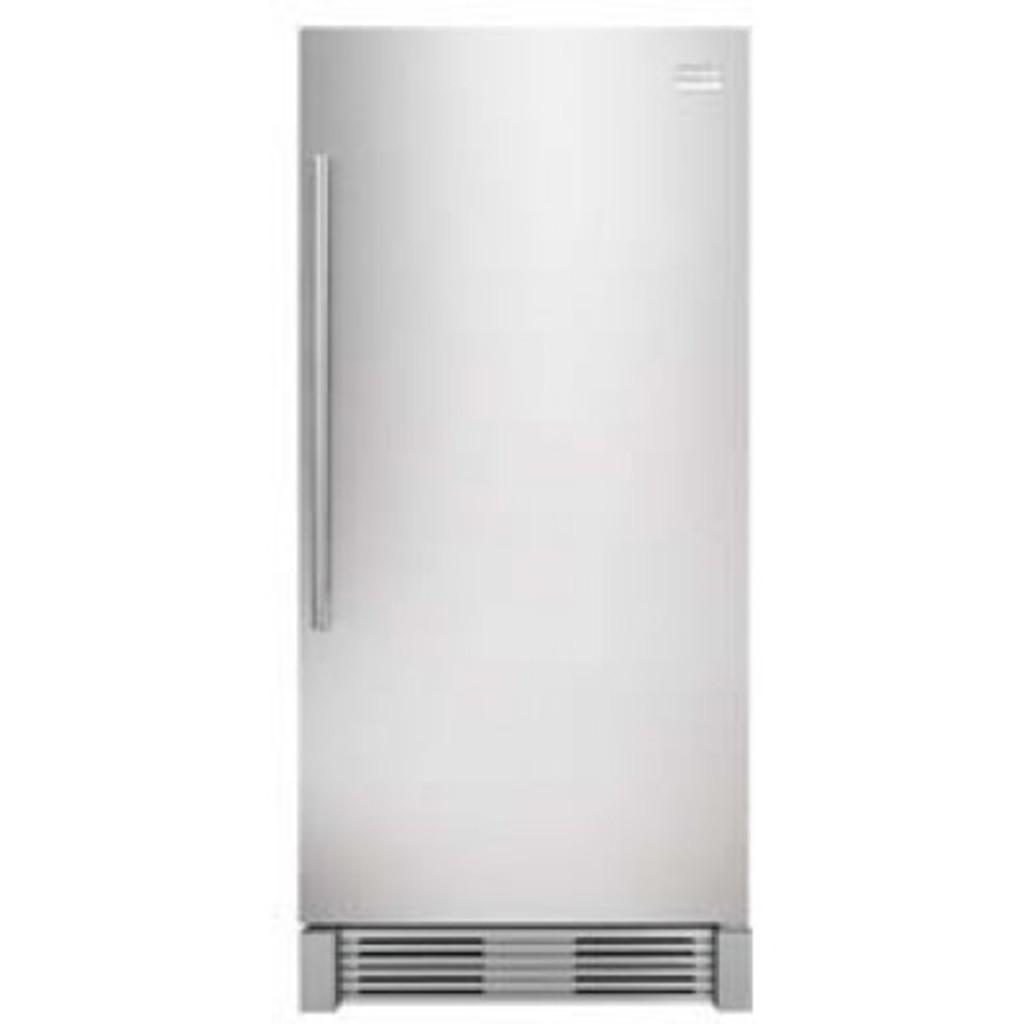handle: (308, 156, 350, 594)
